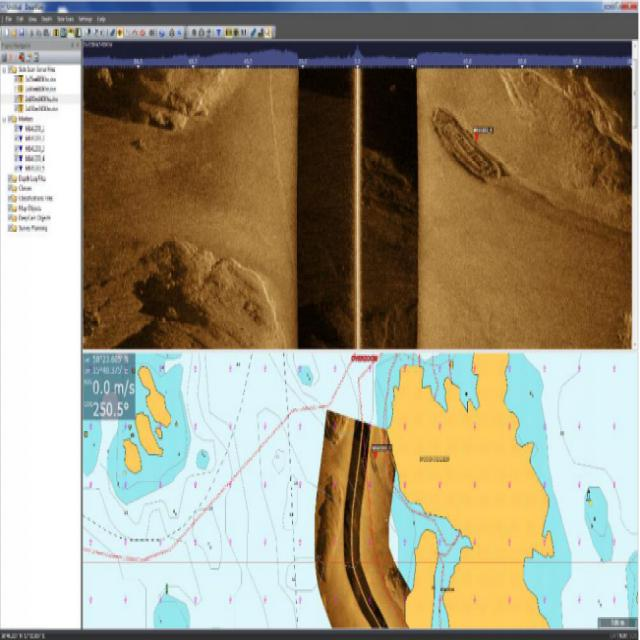ship: (428, 98, 499, 188)
